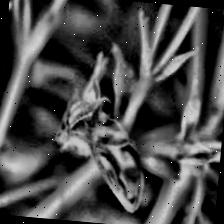Gray Mold: (51, 48, 156, 215)
